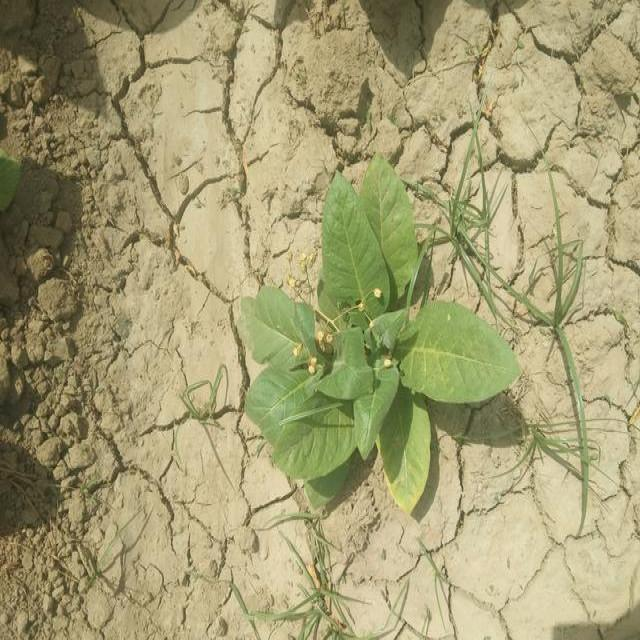crop: (233, 158, 516, 508)
